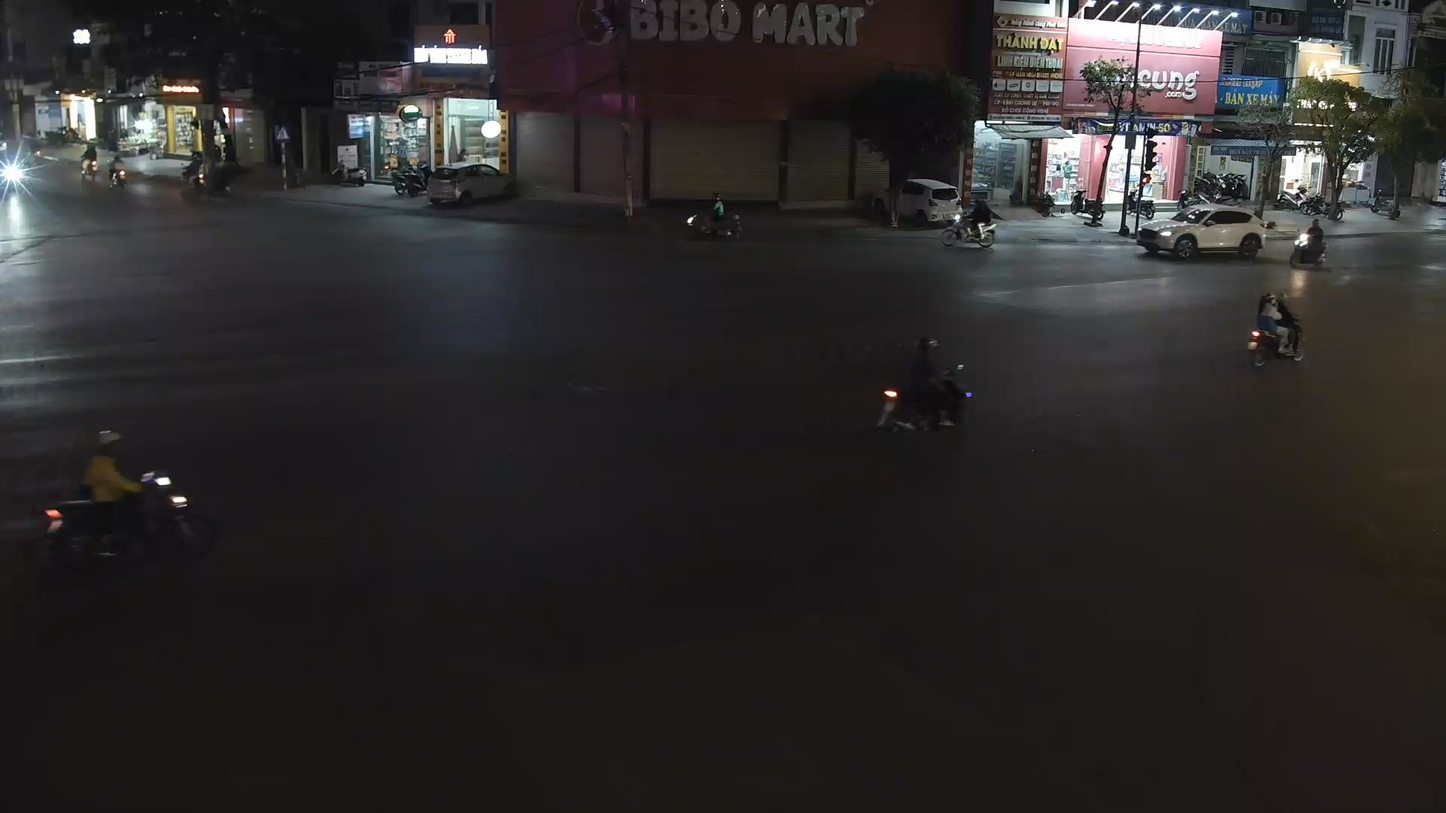car: (1129, 202, 1269, 262), (882, 176, 954, 229)
motorbike: (39, 427, 213, 580), (875, 334, 975, 445), (1243, 288, 1308, 370), (939, 190, 1000, 250), (684, 199, 747, 241), (1289, 214, 1329, 268)
